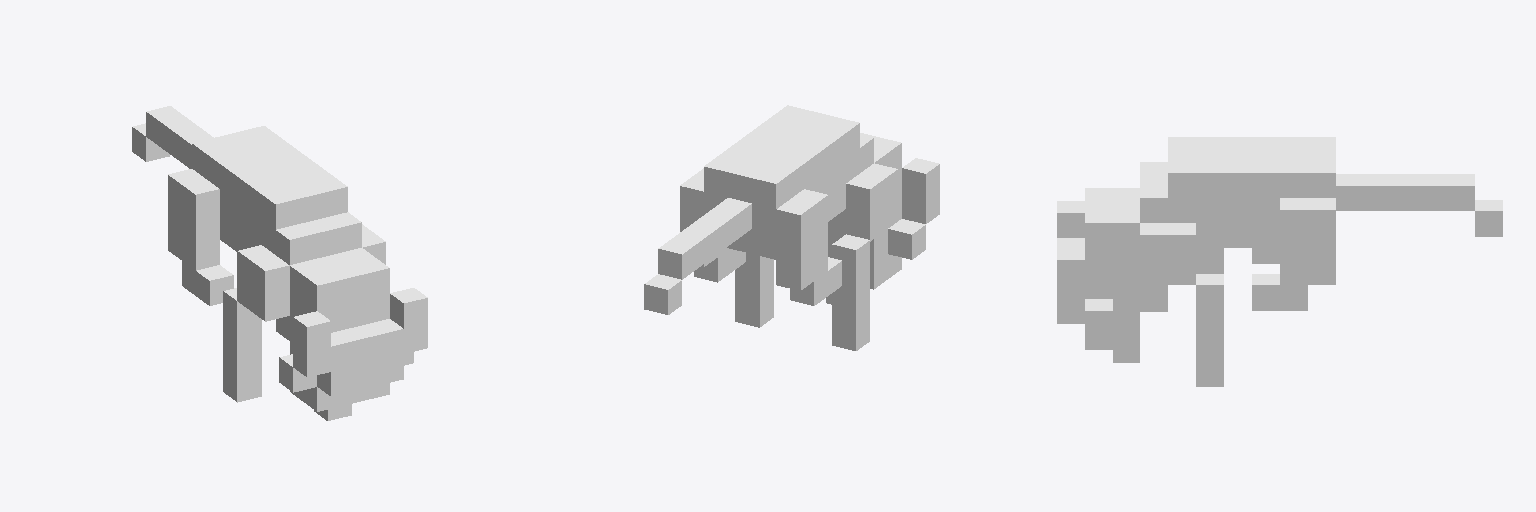
File: rat_ledgeclimb_0.obj
The picture shows the model from 3 angles: view 1: azimuth 30°, elevation 25°; view 2: azimuth 150°, elevation 25°; view 3: azimuth 270°, elevation 25°; orthographic projection.
Visible parts, largest first — view 1: object 1; view 2: object 1; view 3: object 1.
Boxes of the visible parts, x1,y1,x2,y2 form: object 1: [132, 106, 427, 420]; object 1: [644, 105, 939, 350]; object 1: [1057, 137, 1502, 386].
Size of the model in its own units: 0.5 by 0.8 by 1.6.